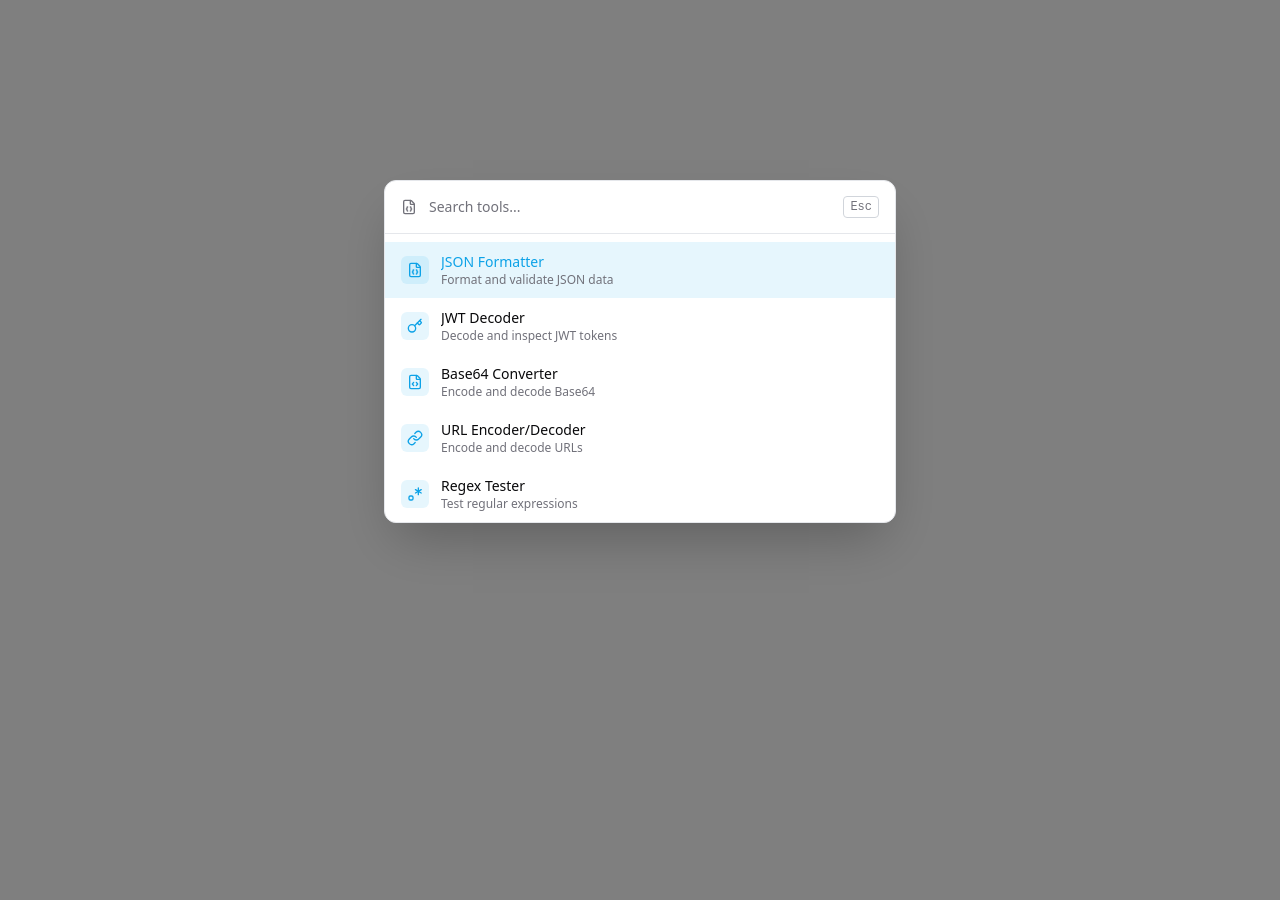
Test: CommandPalette › Search filtering › shows no results message when nothing matches
Step 1. Type "zzznomatch" into the search field → point(630, 207), box [417,181,843,233]
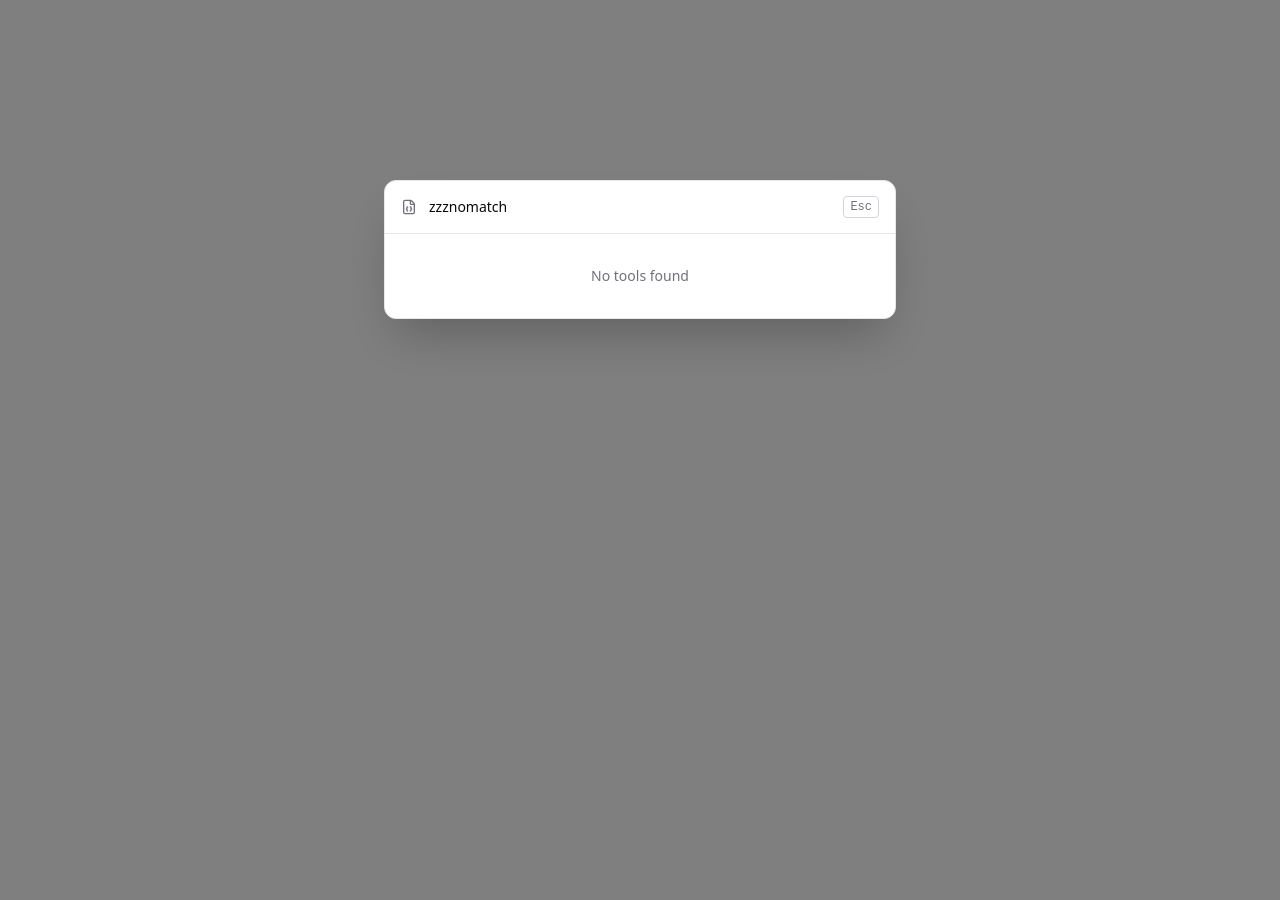
Result: no options are shown
Result: the list item "No tools found" is shown at [591,266,689,285]
